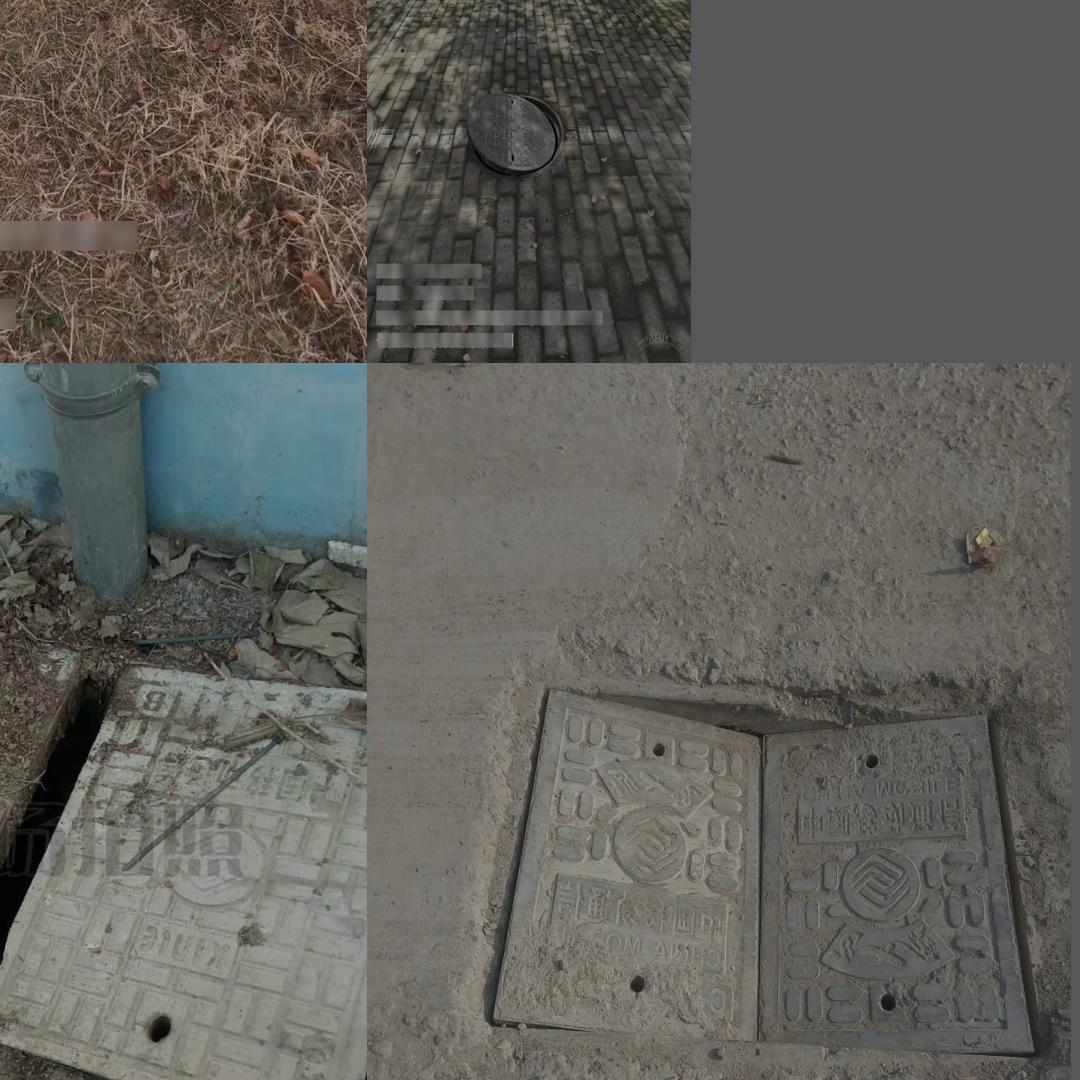uncovered: (469, 668, 1041, 1061), (0, 638, 367, 1080), (466, 91, 563, 177)
